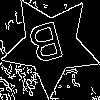B: (25, 20, 69, 73)
